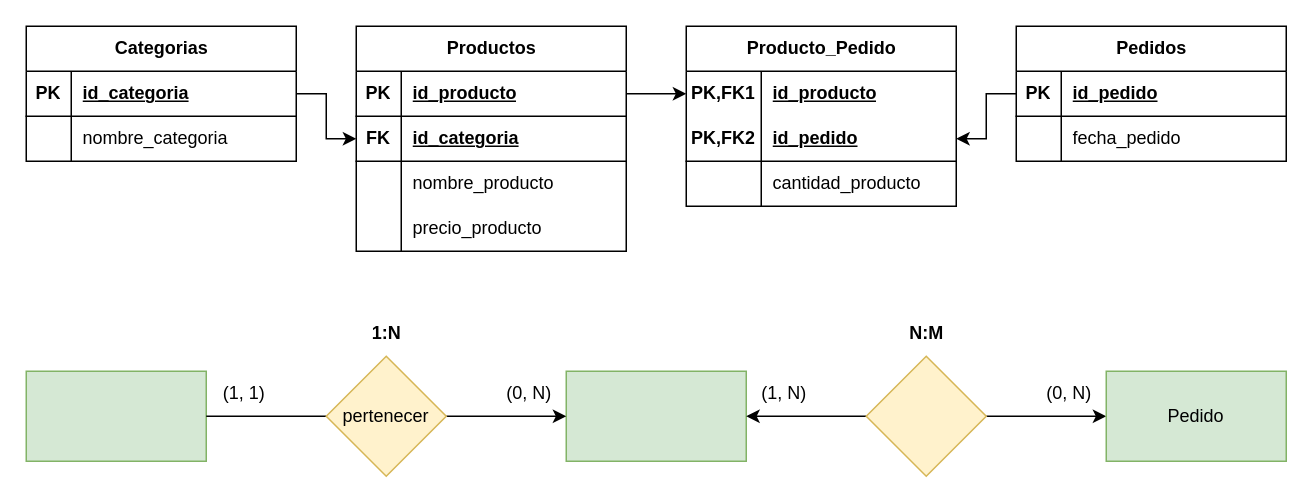
The diagram is 1313 pixels wide and 503 high, and some of its shapes have lost their labels. Here are the shapes that lost their labels. From the top down, the centre of each, then its label:
At [115,415]: "Categoria".
At [655,415]: "Producto".
At [925,415]: "vender".
